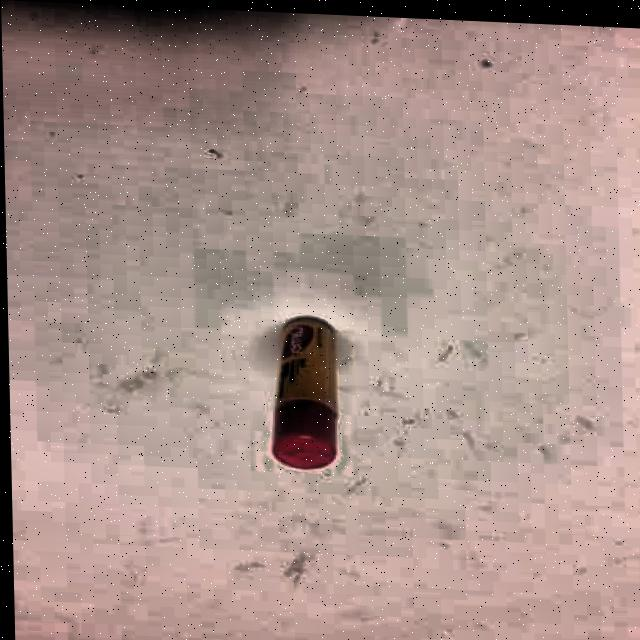trash: (252, 279, 370, 490)
